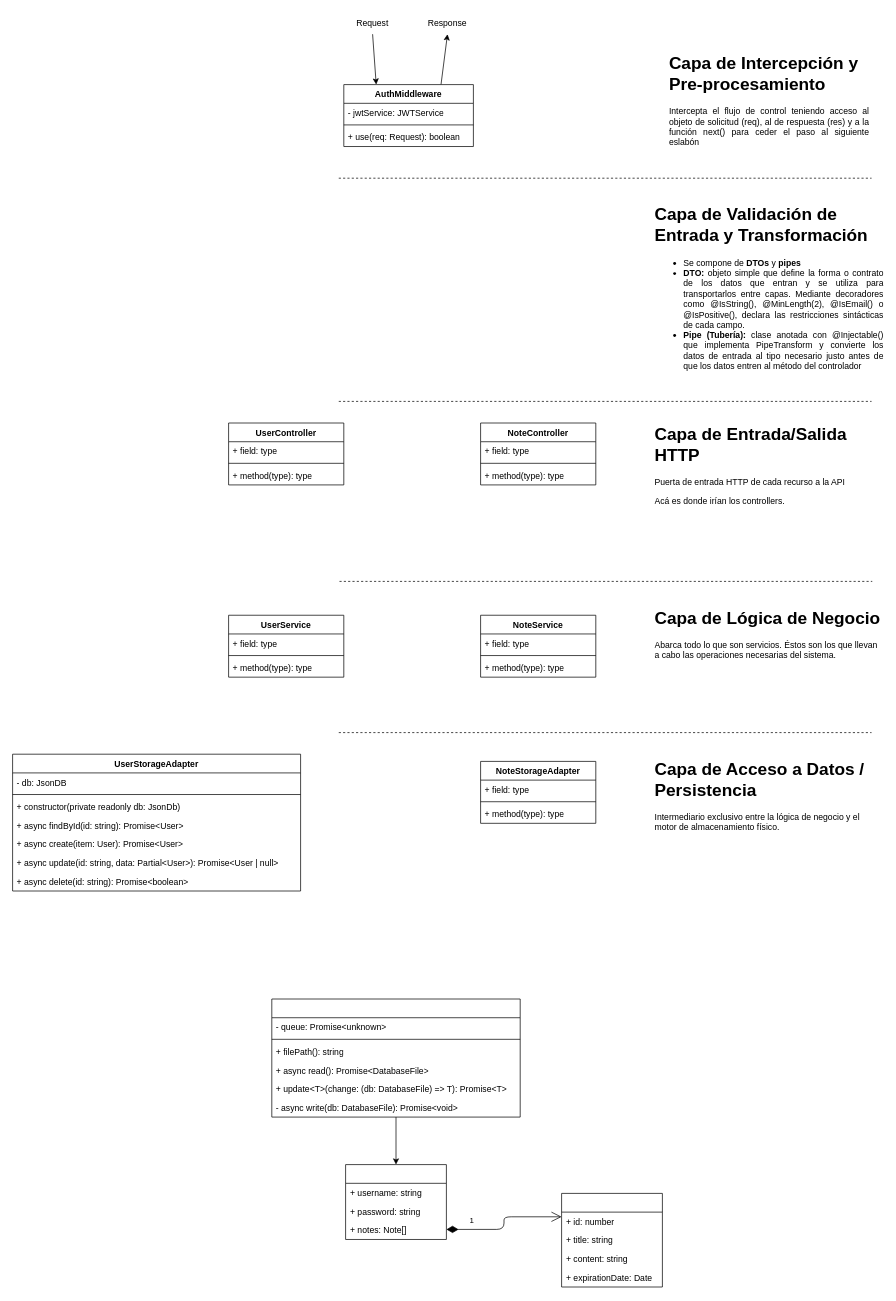
Image size: 896x1301. Some labels were removed from this diagram. Each missing label, with the box of its shape:
JsonDB<T>: (271, 998, 520, 1117)
Note: (561, 1193, 662, 1287)
Usuario: (345, 1164, 446, 1239)
